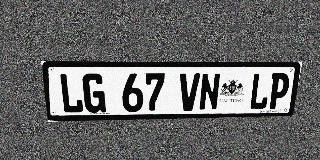6: (122, 73, 143, 112)
7: (144, 73, 165, 112)
G: (82, 73, 106, 113)
L: (58, 73, 84, 113), (248, 73, 272, 110)
N: (199, 73, 221, 111)
P: (267, 73, 291, 109)
V: (178, 73, 200, 111)
